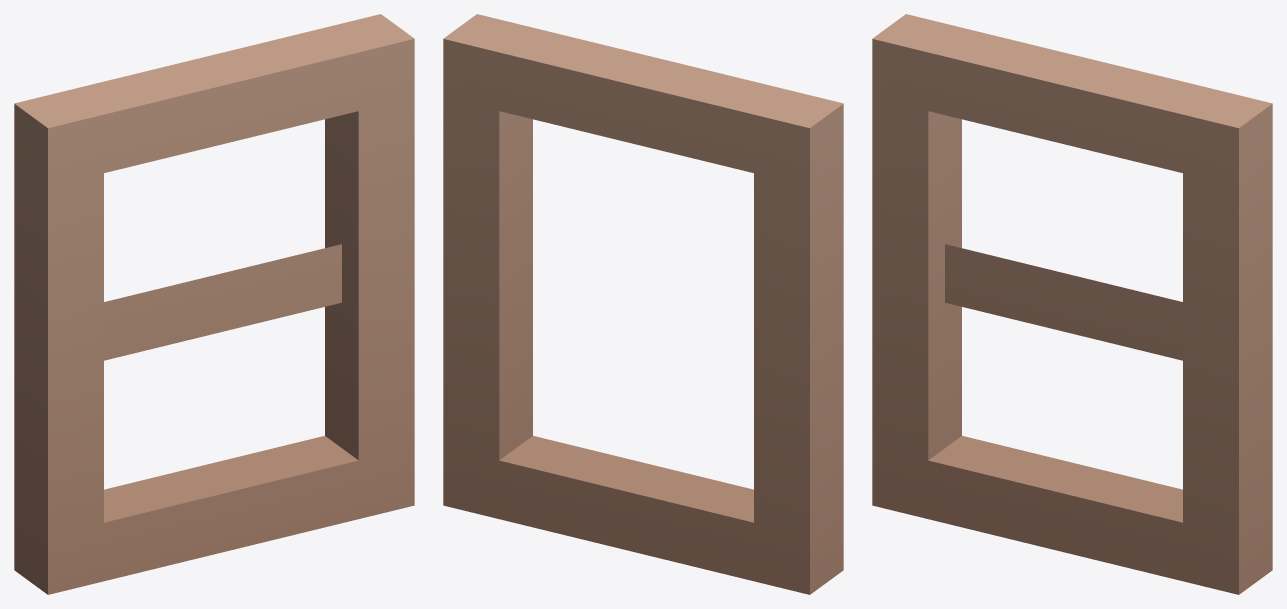
The model's file is window-brown-detailed.glb.
The picture shows the model from 3 angles, left to right: view 1: azimuth 30°, elevation 25°; view 2: azimuth 150°, elevation 25°; view 3: azimuth 330°, elevation 25°; orthographic projection.
Visible parts, largest first — view 1: window-brown-detailed; view 2: window-brown-detailed; view 3: window-brown-detailed.
Boxes of the visible parts, <box> form: window-brown-detailed: <box>14,14,414,594</box>; window-brown-detailed: <box>443,14,843,594</box>; window-brown-detailed: <box>872,14,1272,594</box>.
Bounding box in the file's own units: 0.3125 × 0.38 × 0.05.
